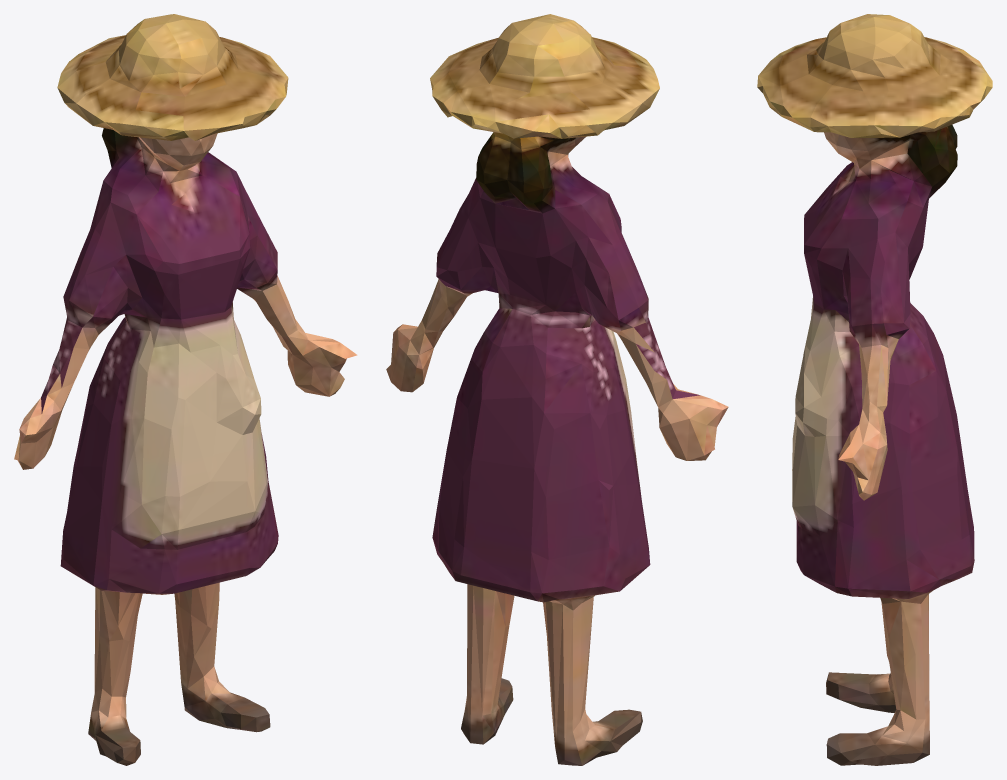
The model's file is habitant-loin.glb.
The picture shows the model from 3 angles, left to right: view 1: azimuth 30°, elevation 25°; view 2: azimuth 150°, elevation 25°; view 3: azimuth 270°, elevation 25°; orthographic projection.
Visible parts, largest first — view 1: habitant; view 2: habitant; view 3: habitant.
Part boxes in pixels (x1,y1,x2,y2): habitant: (14, 14, 357, 765); habitant: (386, 14, 728, 765); habitant: (757, 14, 992, 765).
Size of the model in its own units: 0.4888 by 1.01 by 0.3016.
1 material, 1 textured.
